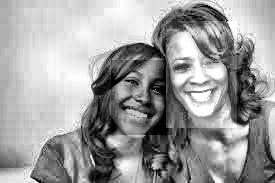Happy: (112, 61, 173, 136)
